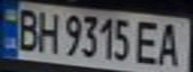1: (97, 14, 118, 61)
3: (78, 12, 100, 59)
5: (112, 15, 136, 63)
9: (60, 10, 84, 56)
A: (154, 19, 187, 67)
B: (9, 4, 42, 52)
E: (133, 17, 163, 66)
H: (33, 7, 60, 53)
